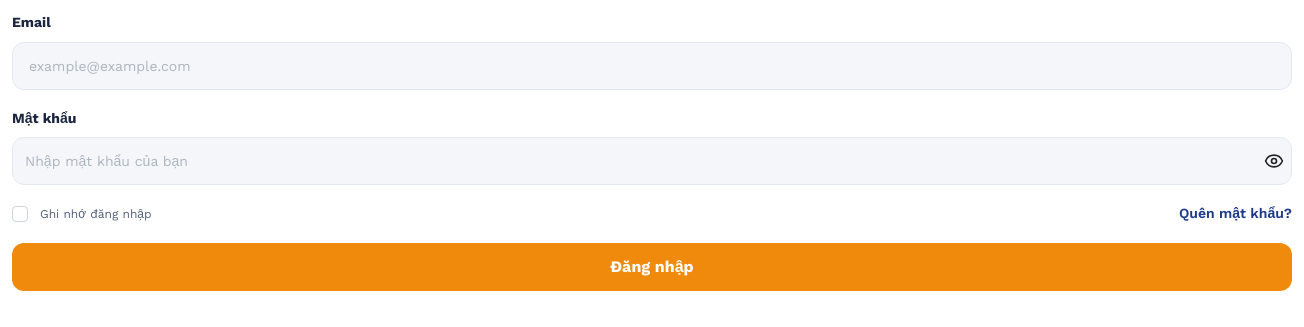
Scenario: LoginForm › shows an error for an invalid email format
Type "not-an-email" into the field labelled "Email".
click(652, 66); type("not-an-email")  # box [12, 42, 1292, 90]
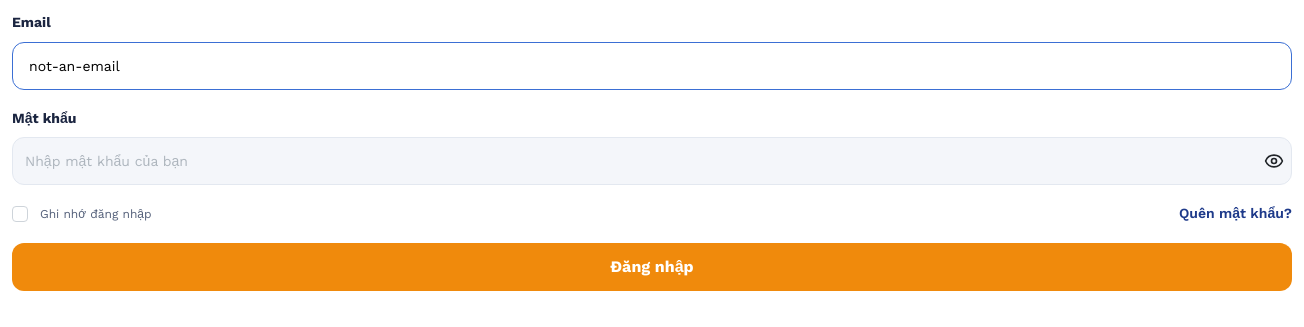
Type "password123" into the password field labelled "Mật khẩu".
click(652, 161); type("password123")  # box [13, 138, 1291, 184]
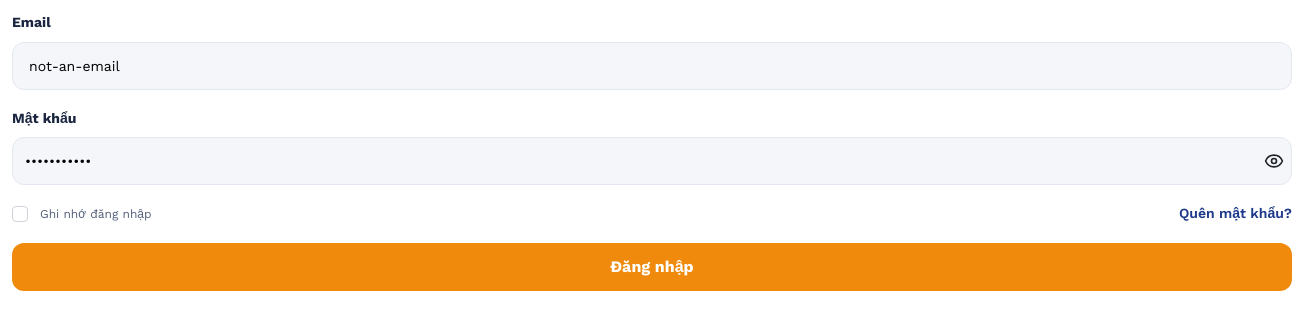
Click the button "Đăng nhập".
click(652, 267)  # box [12, 243, 1292, 291]
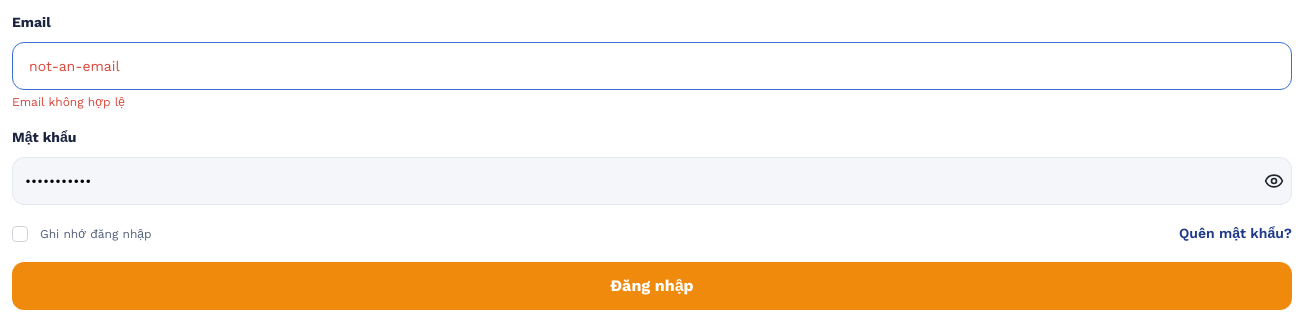
Expected: the text "Email không hợp lệ" is shown, [12, 95, 125, 109]
